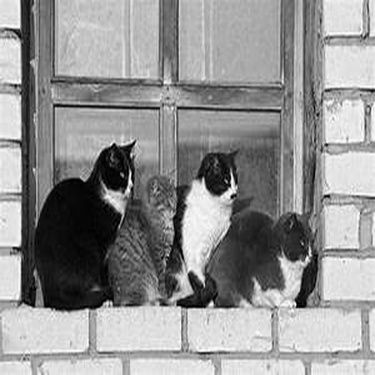cat: (28, 131, 138, 312), (203, 204, 314, 311), (103, 163, 182, 311), (175, 149, 242, 308)
